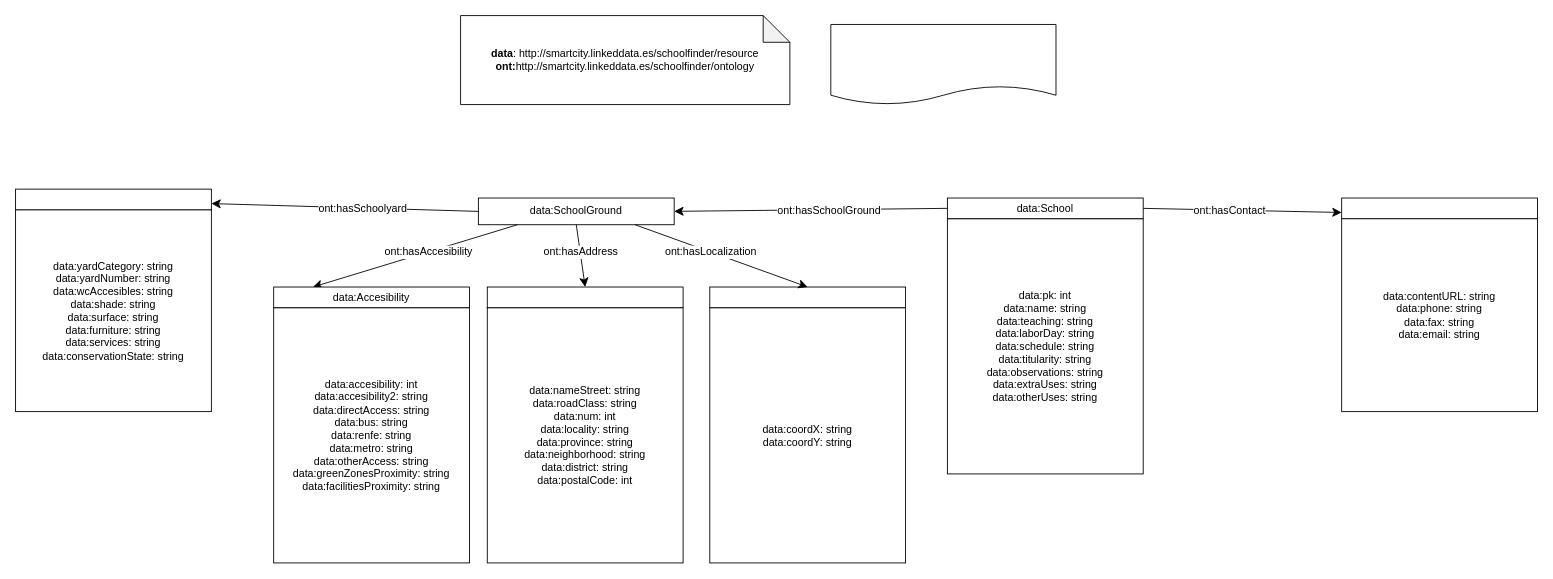
Image size: 1553x579. Some labels were removed from this diagram. Here are the shapes that lost their labels. From the top down, the centre of each, then its label:
At (x=943, y=64): "dc:creator: Schoolfinder owl:versionInfo: 0.0.1 dc:title: Template Ontology".
At (x=113, y=199): "data:Schoolyard".
At (x=1439, y=208): "data:Contact".
At (x=584, y=297): "data:Address".
At (x=807, y=297): "data:Localization".
